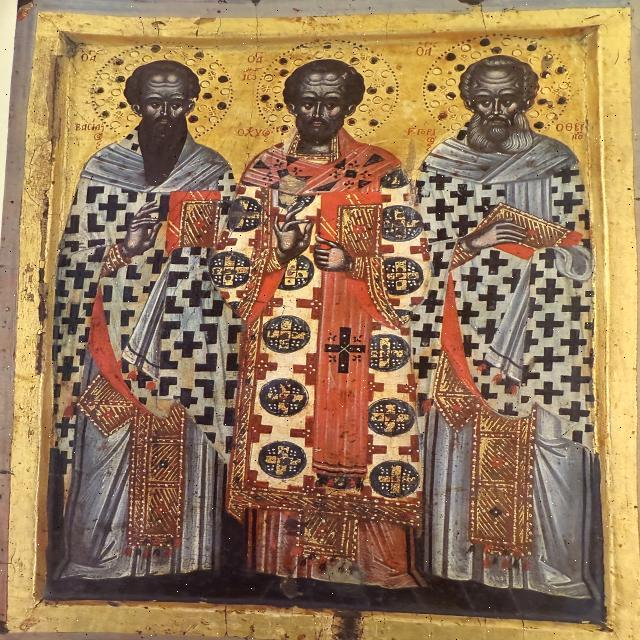aura: (428, 33, 575, 137), (93, 44, 239, 142), (260, 40, 400, 139)
book: (463, 201, 588, 269), (320, 190, 386, 267), (160, 188, 224, 256)
church_father: (419, 33, 624, 589), (51, 35, 247, 587), (251, 35, 433, 587)
